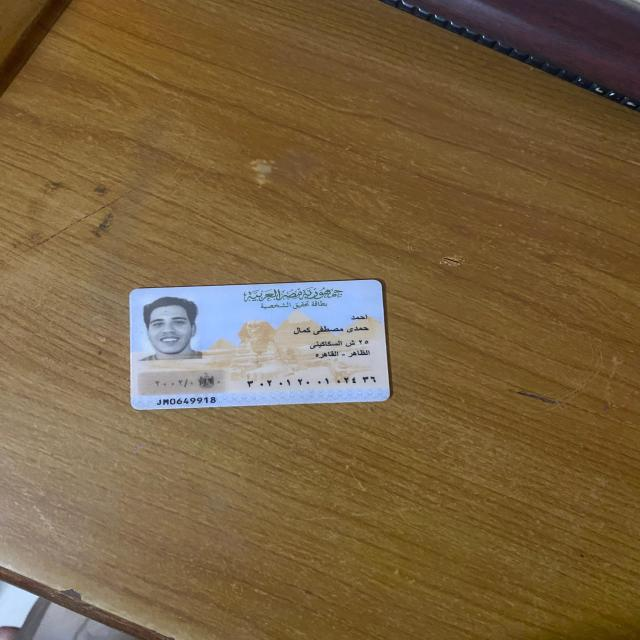id_card: (116, 273, 397, 417)
